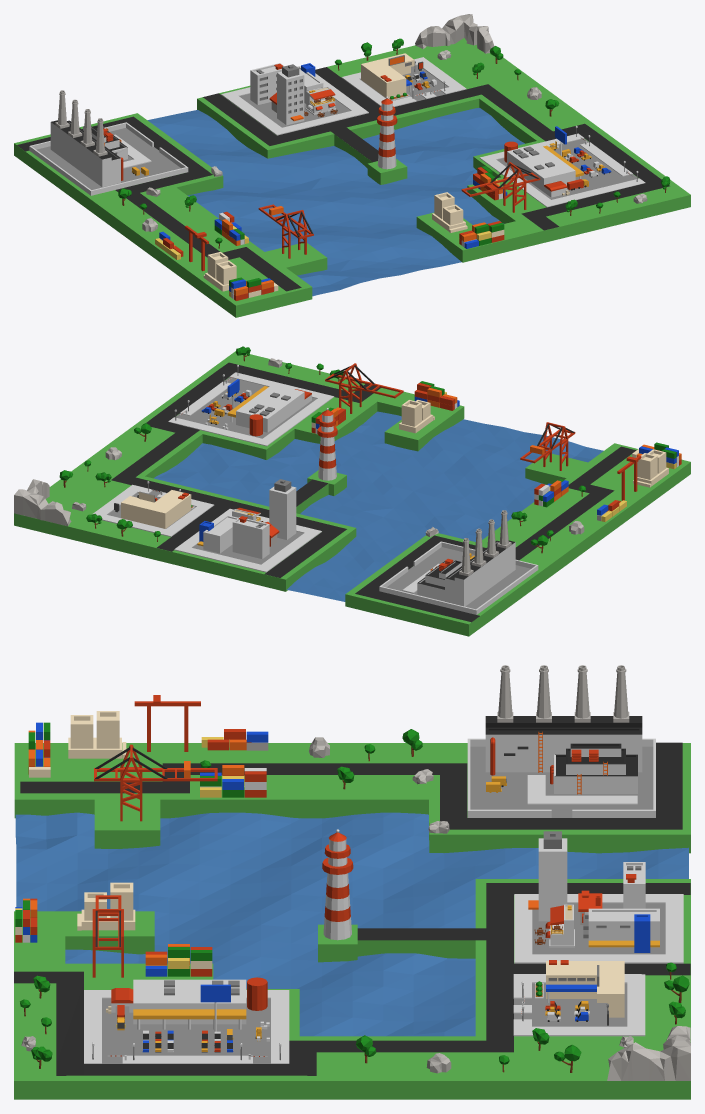
File: mapa_geral.dae
The picture shows the model from 3 angles, top to bottom: view 1: azimuth 30°, elevation 25°; view 2: azimuth 150°, elevation 25°; view 3: azimuth 270°, elevation 25°; orthographic projection. The views are drawn at different scales.
Parts seen in each view (by area): view 1: mar_triangulo, base.001, base, Plane.012, Cube.014, Cube, Cube.018, Plane.002, calcada, Cube.006, Cube.036, Plane.004 (+13 smaller); view 2: mar_triangulo, base.001, base, Plane.012, Cube.018, Cube.014, Cube, Cube.036, calcada, Plane.002, Plane.004, Cube.006 (+13 smaller); view 3: mar_triangulo, base.001, base, Plane.012, Cube.014, Plane.001, Cube, Plane.002, calcada, Cube.018, Cube.020, Cube.036 (+19 smaller).
Boxes of the visible parts, x1,y1,x2,y2 form: mar_triangulo: (147, 107, 524, 296); base.001: (197, 38, 690, 262); base: (14, 113, 327, 317); Plane.012: (17, 67, 669, 291); Cube.014: (50, 120, 120, 187); Cube: (507, 143, 583, 197); Cube.018: (479, 133, 645, 207); Plane.002: (36, 128, 180, 189); calcada: (221, 73, 368, 135); Cube.006: (415, 14, 494, 53); Cube.036: (361, 53, 414, 97); Plane.004: (29, 122, 188, 195); mar_triangulo: (154, 411, 603, 601); base.001: (14, 351, 464, 591); base: (345, 443, 690, 636); Plane.012: (111, 362, 636, 622); Cube.018: (168, 372, 334, 446); Cube.014: (445, 540, 515, 606); Cube: (227, 384, 311, 432); Cube.036: (121, 490, 191, 528); calcada: (174, 508, 321, 572); Plane.002: (386, 547, 530, 609); Plane.004: (379, 541, 538, 614); Cube.006: (14, 479, 71, 526); mar_triangulo: (15, 812, 688, 1036); base.001: (14, 879, 690, 1099); base: (14, 743, 690, 853); Plane.012: (14, 742, 690, 1075); Cube.014: (485, 716, 642, 772); Plane.001: (102, 998, 270, 1063); Cube: (111, 979, 246, 1024); Plane.002: (470, 746, 653, 817); calcada: (514, 894, 683, 963); Cube.018: (84, 990, 289, 1063); Cube.020: (553, 743, 637, 793); Cube.036: (546, 961, 624, 1017).
Size of the model in its own units: 195 by 165 by 33.16.
